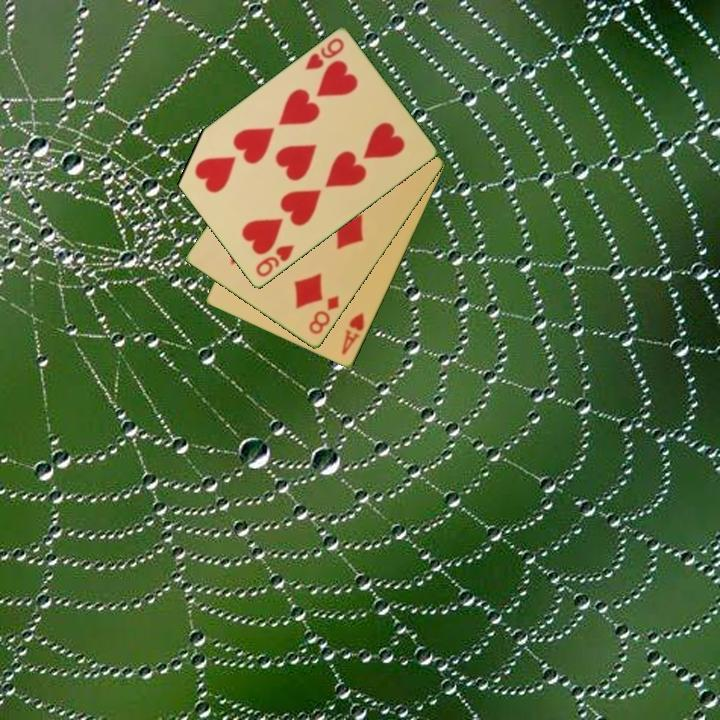8d: (305, 292, 342, 338)
9h: (252, 241, 297, 280), (301, 35, 347, 73)
Ah: (338, 309, 368, 358)
